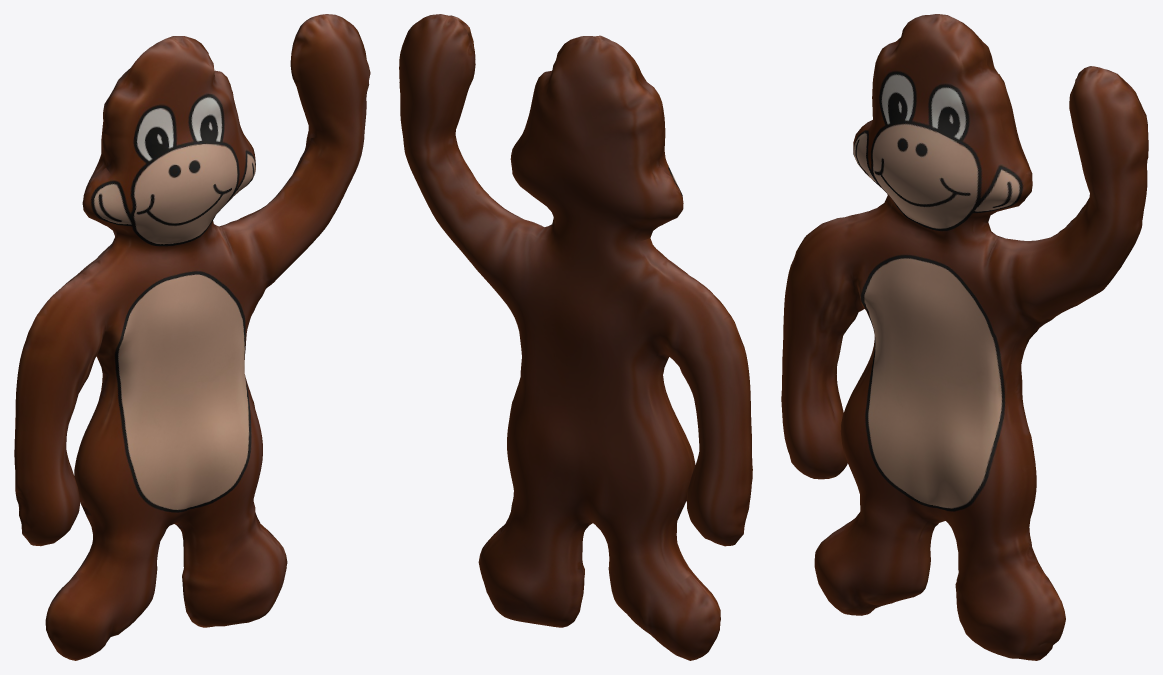
3 renders of one model, left to right at view 1: azimuth 30°, elevation 25°; view 2: azimuth 150°, elevation 25°; view 3: azimuth 330°, elevation 25°, orthographic. The views are drawn at different scales.
Visible parts, largest first — view 1: SpanktheMonkey; view 2: SpanktheMonkey; view 3: SpanktheMonkey.
Boxes of the visible parts, x1,y1,x2,y2 form: SpanktheMonkey: (14,14,370,660); SpanktheMonkey: (399,14,752,660); SpanktheMonkey: (781,14,1148,660).
Bounding box in the file's own units: 4.18 × 6.82 × 0.9065.
1 material, 1 textured.
